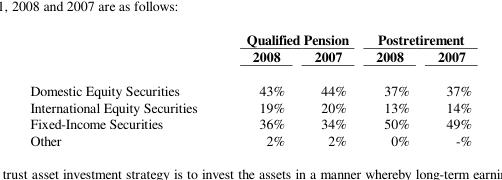table: (29, 29, 471, 148)
table column: (29, 29, 221, 148), (221, 29, 298, 148), (298, 29, 361, 148), (361, 29, 422, 148), (422, 29, 471, 148)
table column header: (29, 29, 471, 73)
table row: (29, 47, 471, 73), (29, 73, 471, 97), (29, 29, 471, 47), (29, 97, 471, 114), (29, 114, 471, 131), (29, 131, 471, 148)
table spanning cell: (221, 29, 361, 47), (361, 29, 471, 47)
